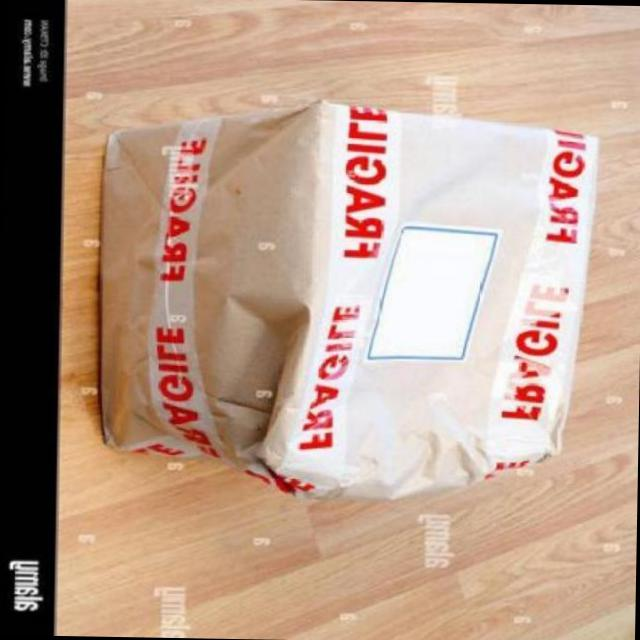box: (83, 98, 609, 512)
